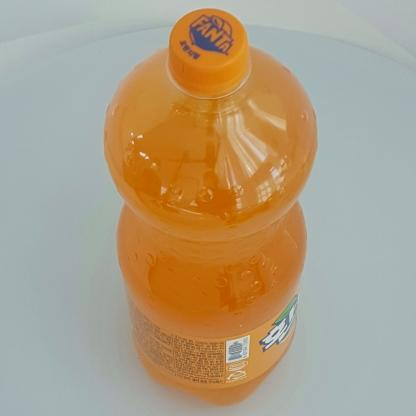-------1-5L: (103, 8, 318, 407)
